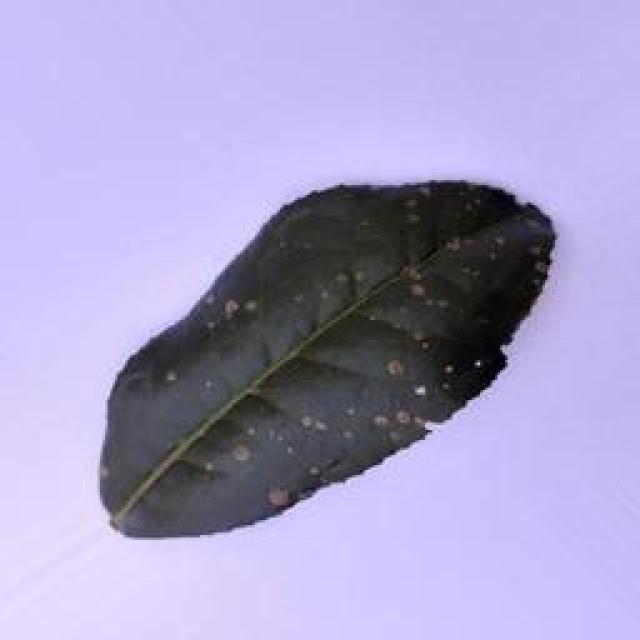Algal Leaf Spot: (93, 174, 553, 542)
